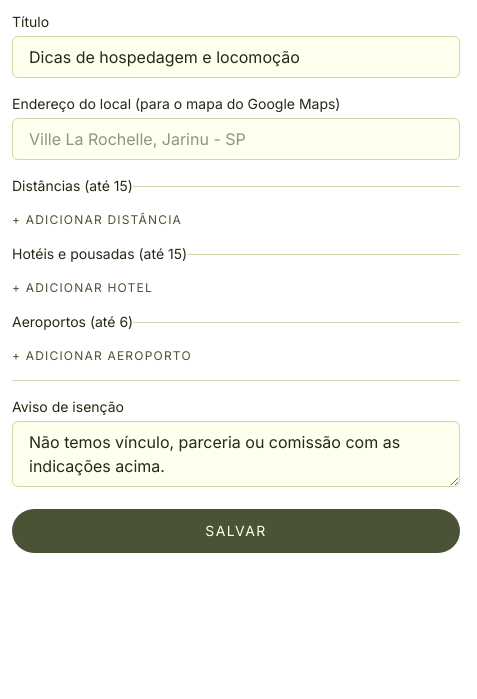
Test: TipsHospedagemForm › adds a new distance row when clicking + Adicionar distância
What coordinates should you click on to do the following:
click the button "+ Adicionar distância"
I would click on:
 (97, 220)
Its box is [12, 212, 182, 228].
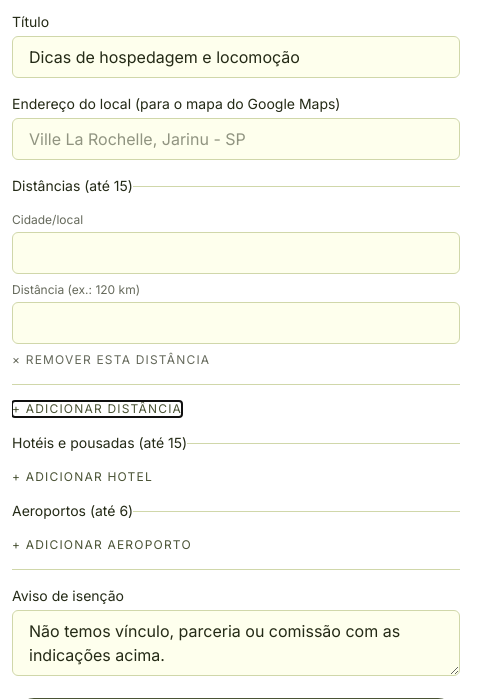
Expected: the field labelled "Cidade/local" is shown, [12, 232, 460, 274]
